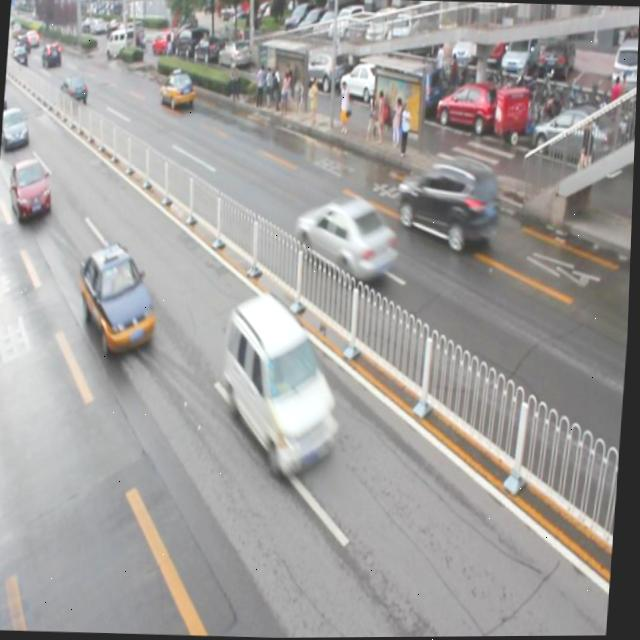car: (219, 292, 351, 483), (292, 192, 400, 287), (393, 161, 503, 252), (76, 240, 160, 354), (9, 155, 56, 222), (158, 68, 195, 109), (2, 106, 30, 148), (60, 76, 89, 102)
